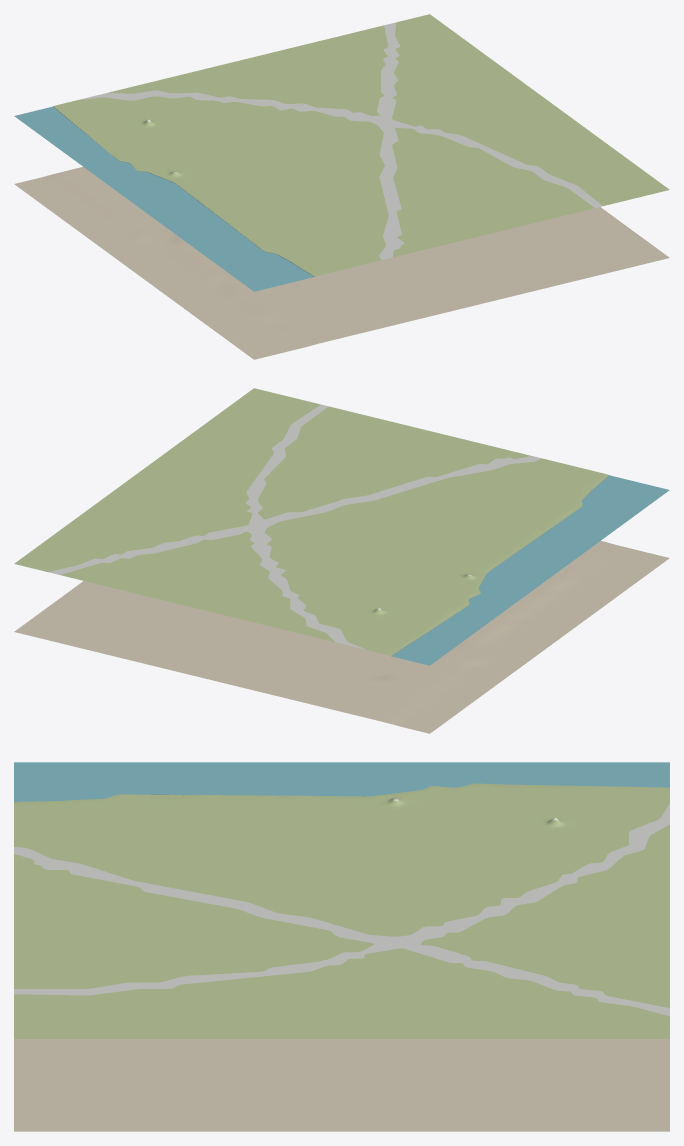
The picture shows the model from 3 angles, top to bottom: view 1: azimuth 30°, elevation 25°; view 2: azimuth 150°, elevation 25°; view 3: azimuth 270°, elevation 25°; orthographic projection. The views are drawn at different scales.
Visible parts, largest first — view 1: s_-12_2__grass, s_-12_2__soil, s_-12_2__water, s_-12_2__stone_paving; view 2: s_-12_2__grass, s_-12_2__soil, s_-12_2__water, s_-12_2__stone_paving; view 3: s_-12_2__grass, s_-12_2__soil, s_-12_2__water, s_-12_2__stone_paving.
Boxes of the visible parts, x1=… form: s_-12_2__grass: x1=53, y1=14, x2=669, y2=276; s_-12_2__soil: x1=14, y1=167, x2=669, y2=359; s_-12_2__water: x1=14, y1=106, x2=313, y2=291; s_-12_2__stone_paving: x1=79, y1=22, x2=602, y2=259; s_-12_2__grass: x1=14, y1=388, x2=608, y2=655; s_-12_2__soil: x1=14, y1=541, x2=669, y2=733; s_-12_2__water: x1=391, y1=475, x2=669, y2=665; s_-12_2__stone_paving: x1=48, y1=404, x2=541, y2=649; s_-12_2__grass: x1=14, y1=783, x2=669, y2=1038; s_-12_2__soil: x1=14, y1=1039, x2=669, y2=1131; s_-12_2__water: x1=14, y1=762, x2=669, y2=801; s_-12_2__stone_paving: x1=14, y1=804, x2=669, y2=1016.
Size of the model in its own units: 128 by 21.29 by 128.
